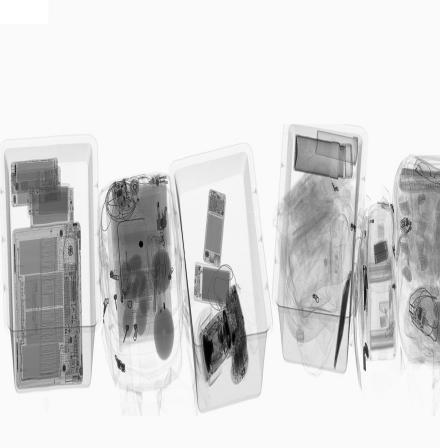Powerbank: (193, 263, 231, 309)
